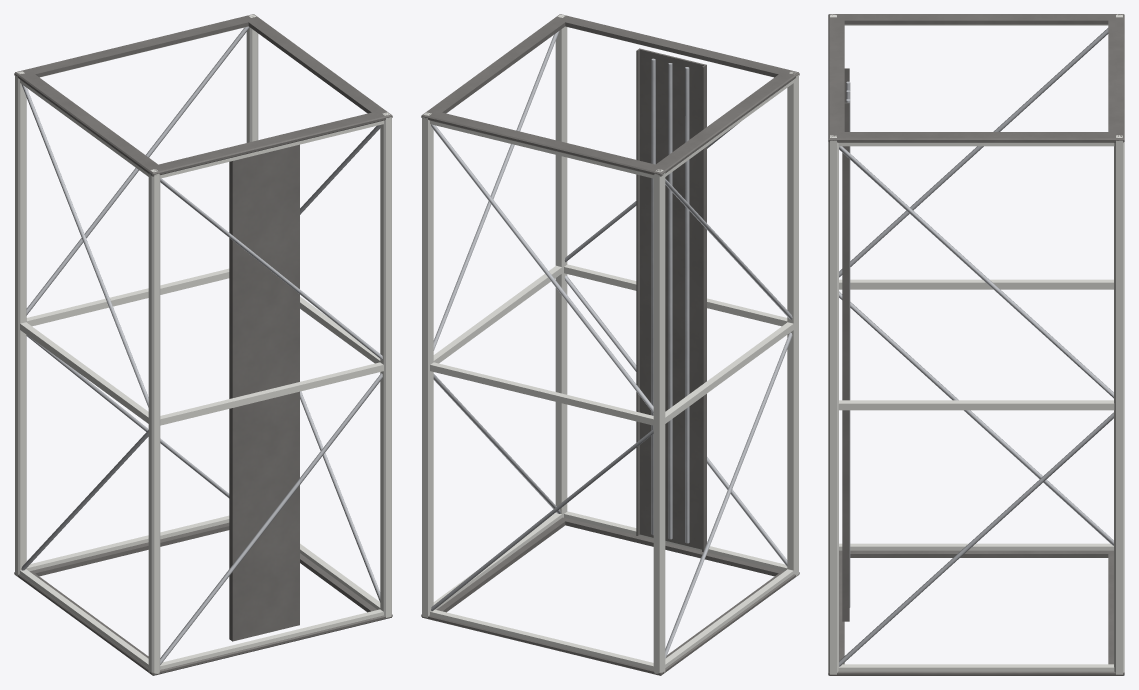
The model's file is ax_station_18_truss_m.glb.
3 renders of one model, left to right at view 1: azimuth 30°, elevation 25°; view 2: azimuth 150°, elevation 25°; view 3: azimuth 270°, elevation 25°, orthographic. The views are drawn at different scales.
Visible parts, largest first — view 1: utility_tray, longerons, end_frames, frames, diagonals; view 2: utility_tray, longerons, end_frames, frames, diagonals, tray_lines; view 3: end_frames, frames, longerons, diagonals, utility_tray, tray_lines.
Boxes of the visible parts, x1=… form: utility_tray: x1=229, y1=144, x2=299, y2=641; longerons: x1=15, y1=14, x2=391, y2=673; end_frames: x1=14, y1=14, x2=392, y2=675; frames: x1=20, y1=26, x2=383, y2=669; diagonals: x1=21, y1=26, x2=382, y2=664; utility_tray: x1=636, y1=48, x2=706, y2=551; longerons: x1=422, y1=14, x2=798, y2=673; end_frames: x1=421, y1=14, x2=799, y2=675; frames: x1=430, y1=26, x2=793, y2=669; diagonals: x1=431, y1=31, x2=792, y2=658; tray_lines: x1=651, y1=58, x2=689, y2=543; end_frames: x1=828, y1=14, x2=1124, y2=675; frames: x1=838, y1=24, x2=1114, y2=671; longerons: x1=828, y1=14, x2=1124, y2=674; diagonals: x1=839, y1=28, x2=1113, y2=666; utility_tray: x1=842, y1=68, x2=849, y2=621; tray_lines: x1=846, y1=81, x2=850, y2=607.
Size of the model in its own units: 2.5 by 5 by 2.5.
Materials: 3 (2 with a texture image).
